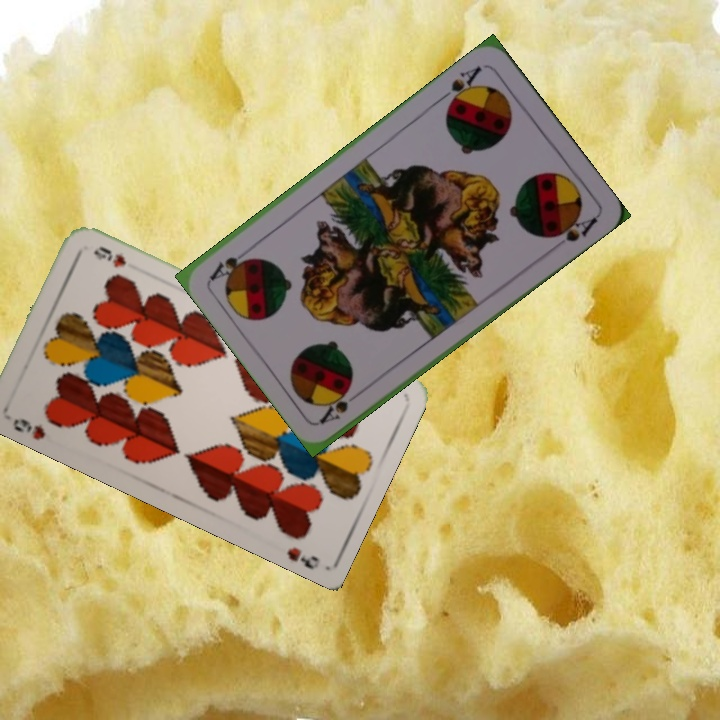H9: (8, 414, 48, 443)
SA: (436, 61, 485, 111), (315, 386, 367, 427)
